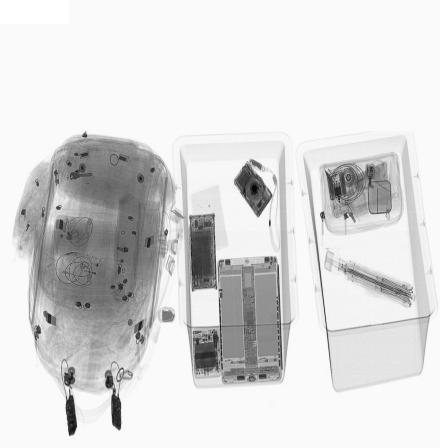Lighter: (78, 262, 107, 278)
